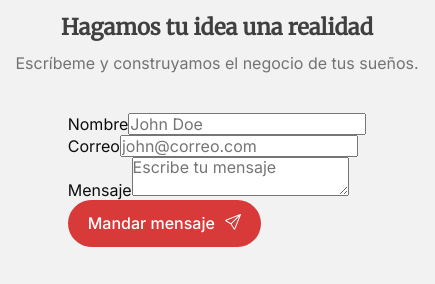
Test: Contacto - Pruebas Funcionales › muestra error cuando el mensaje está vacío
Type "Juan Pérez" into the field labelled "Nombre". click: (247, 124)
box: [128,113,366,135]
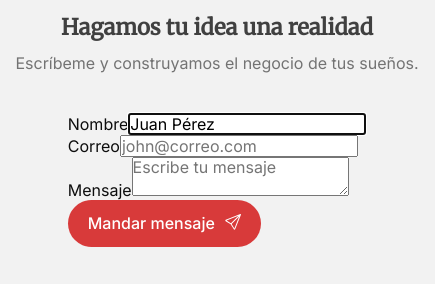
Type "juan@example.com" into the field labelled "Correo". click: (239, 146)
box: [120,135,358,158]
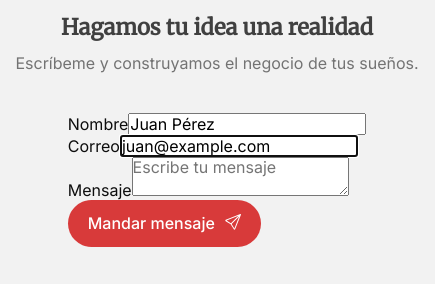
Click the button "Mandar mensaje". click: (164, 223)
box: [68,200,261,247]
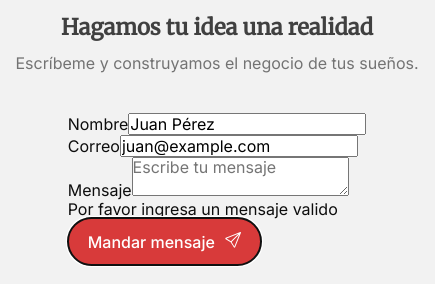
Now the text "Por favor ingresa un mensaje valido" is shown, box [68,200,366,218]
